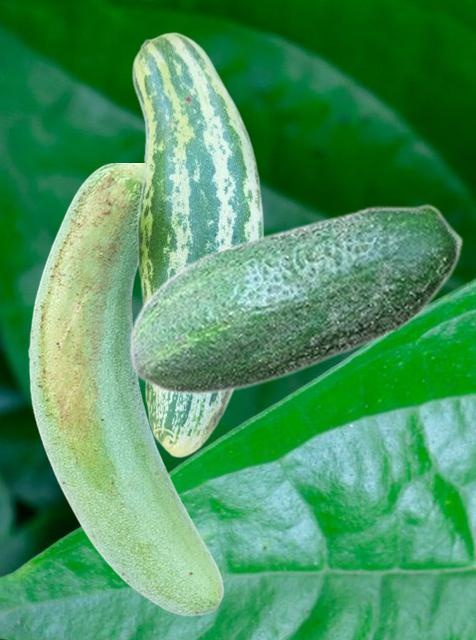cucumber: (28, 163, 223, 615), (128, 203, 463, 394), (131, 31, 263, 457)
